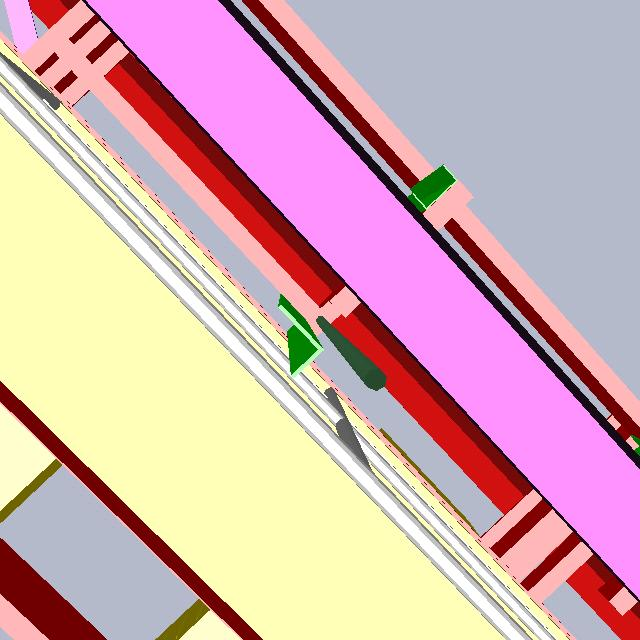Poste: (313, 305, 399, 394)
Soporte: (263, 288, 325, 389)
